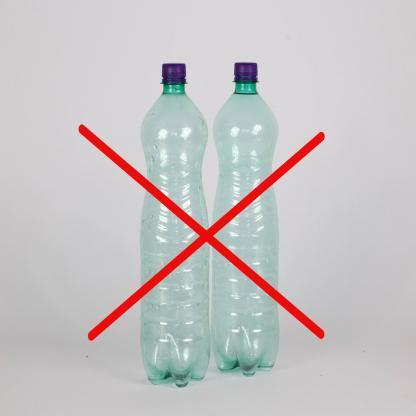bottle: (134, 49, 212, 390), (212, 48, 280, 385)
